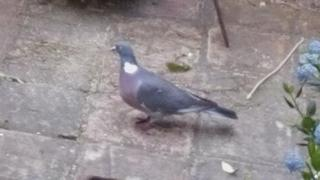wood pigeon: (109, 42, 239, 130)
